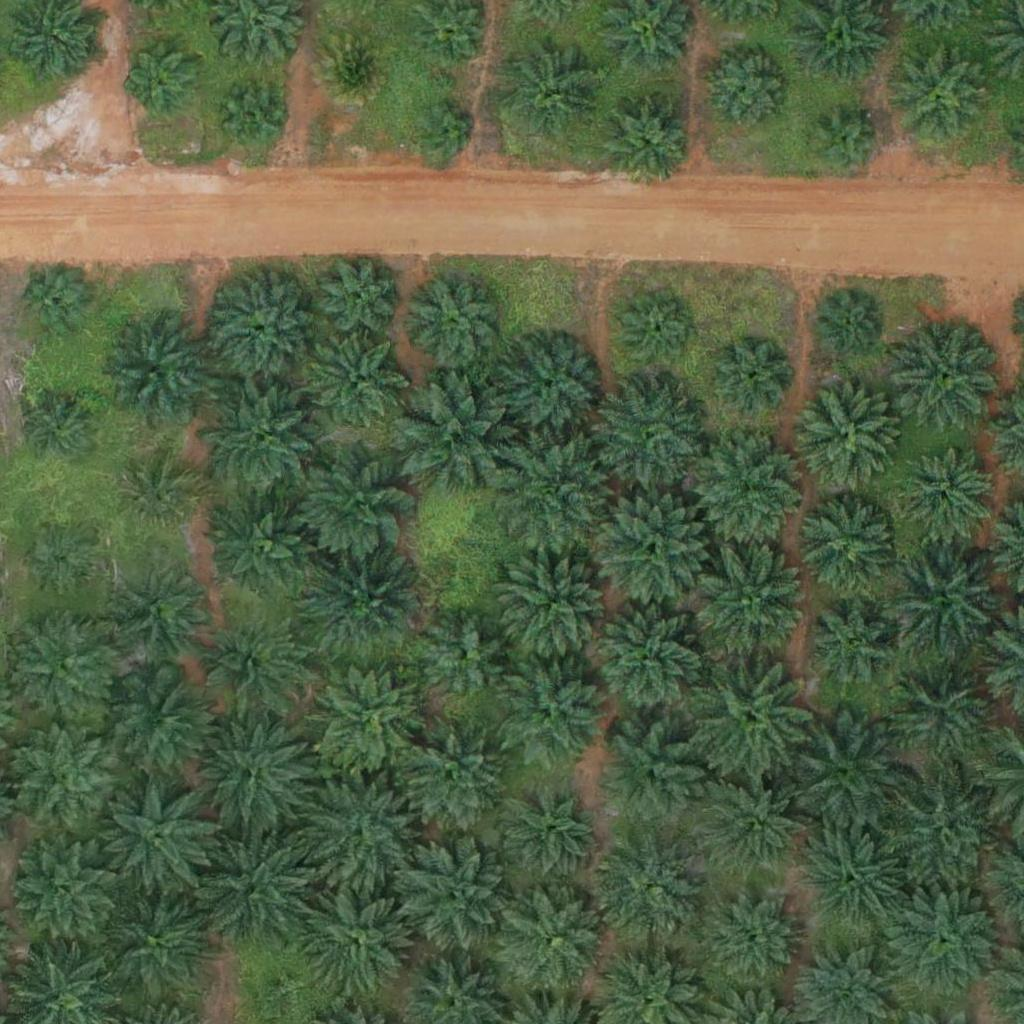Kelapa_Sawit: (92, 310, 217, 436), (94, 776, 219, 902), (199, 371, 324, 497), (294, 441, 419, 567), (391, 374, 516, 500), (494, 433, 619, 559), (588, 598, 713, 724), (689, 540, 814, 666), (688, 655, 813, 781), (784, 711, 909, 837), (880, 531, 1005, 657), (879, 650, 1004, 776), (879, 766, 1004, 892), (881, 877, 1006, 1003), (500, 551, 613, 665), (592, 836, 705, 950), (102, 667, 215, 780), (198, 721, 311, 834), (498, 656, 611, 769), (491, 774, 604, 887), (592, 722, 705, 835), (692, 433, 805, 546), (300, 881, 413, 994), (194, 833, 307, 946), (595, 489, 707, 603), (700, 768, 812, 882), (8, 607, 120, 720), (10, 722, 122, 835), (208, 493, 320, 606), (195, 609, 307, 722), (307, 546, 419, 659), (312, 665, 424, 778), (305, 775, 417, 888), (393, 720, 505, 833), (590, 374, 702, 487), (497, 885, 609, 998), (397, 836, 509, 949), (99, 886, 211, 999), (8, 838, 120, 951), (890, 45, 990, 146), (209, 274, 309, 375), (797, 383, 897, 484), (796, 498, 896, 599), (899, 324, 999, 425), (893, 445, 993, 546), (597, 89, 697, 189), (503, 39, 603, 139), (308, 331, 408, 431), (498, 337, 598, 437), (803, 594, 903, 694), (802, 825, 902, 925), (700, 892, 800, 992), (702, 45, 790, 133), (422, 612, 510, 700), (117, 565, 204, 653), (314, 252, 401, 340), (408, 278, 495, 366), (619, 295, 694, 371), (808, 104, 883, 180), (317, 30, 392, 106), (215, 79, 290, 155), (123, 458, 198, 533), (716, 339, 791, 414), (125, 38, 200, 113), (17, 264, 92, 339), (20, 394, 95, 469), (26, 524, 101, 599), (817, 293, 880, 356), (415, 102, 477, 165)
